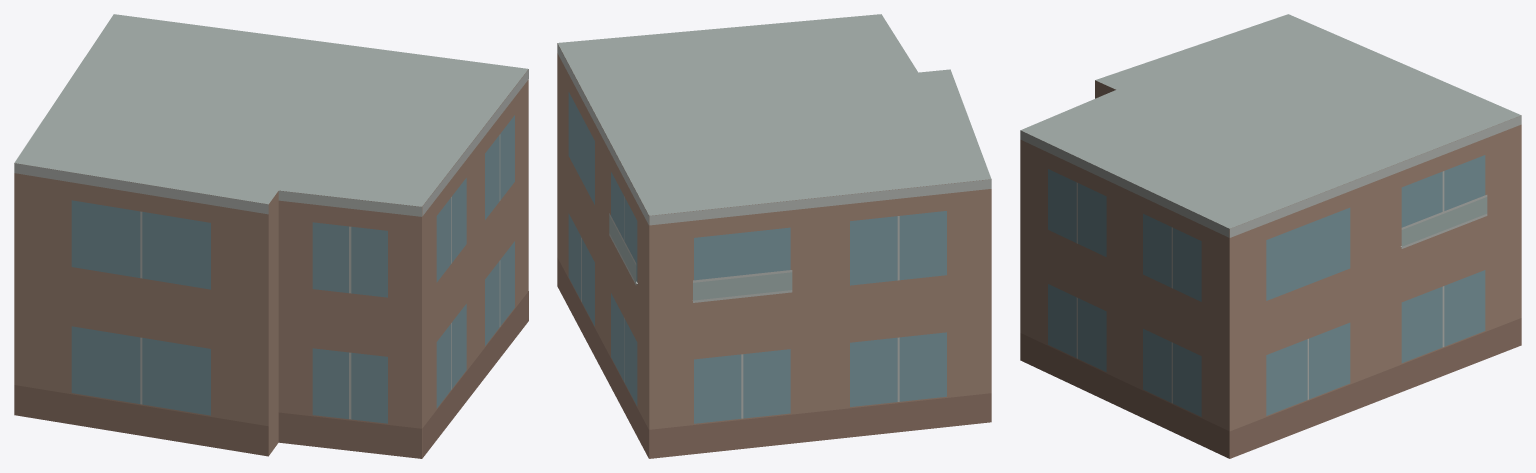
File: survey-upis-32785209.glb
The picture shows the model from 3 angles, left to right: view 1: azimuth 30°, elevation 25°; view 2: azimuth 150°, elevation 25°; view 3: azimuth 270°, elevation 25°; orthographic projection. The views are drawn at different scales.
Visible parts, largest first — view 1: survey-upis-32785209.tmp; view 2: survey-upis-32785209.tmp; view 3: survey-upis-32785209.tmp.
Part boxes in pixels (x1=…): survey-upis-32785209.tmp: x1=14, y1=14, x2=528, y2=458; survey-upis-32785209.tmp: x1=557, y1=14, x2=991, y2=458; survey-upis-32785209.tmp: x1=1020, y1=14, x2=1521, y2=458.
Size of the model in its own units: 12.23 by 6.1 by 12.05.
